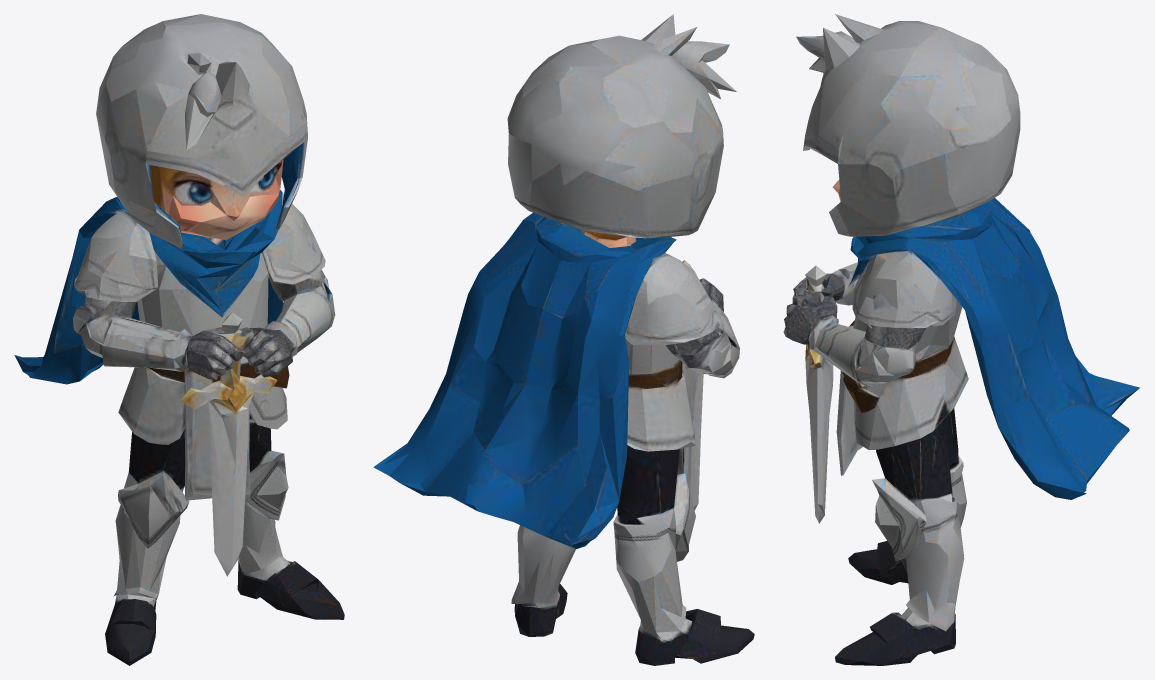
The model's file is held_ritter.glb.
The picture shows the model from 3 angles, left to right: view 1: azimuth 30°, elevation 25°; view 2: azimuth 150°, elevation 25°; view 3: azimuth 270°, elevation 25°; orthographic projection. The views are drawn at different scales.
Bounding box in the file's own units: 0.9126 × 1.9 × 1.06.
Materials: 1 (1 with a texture image).
